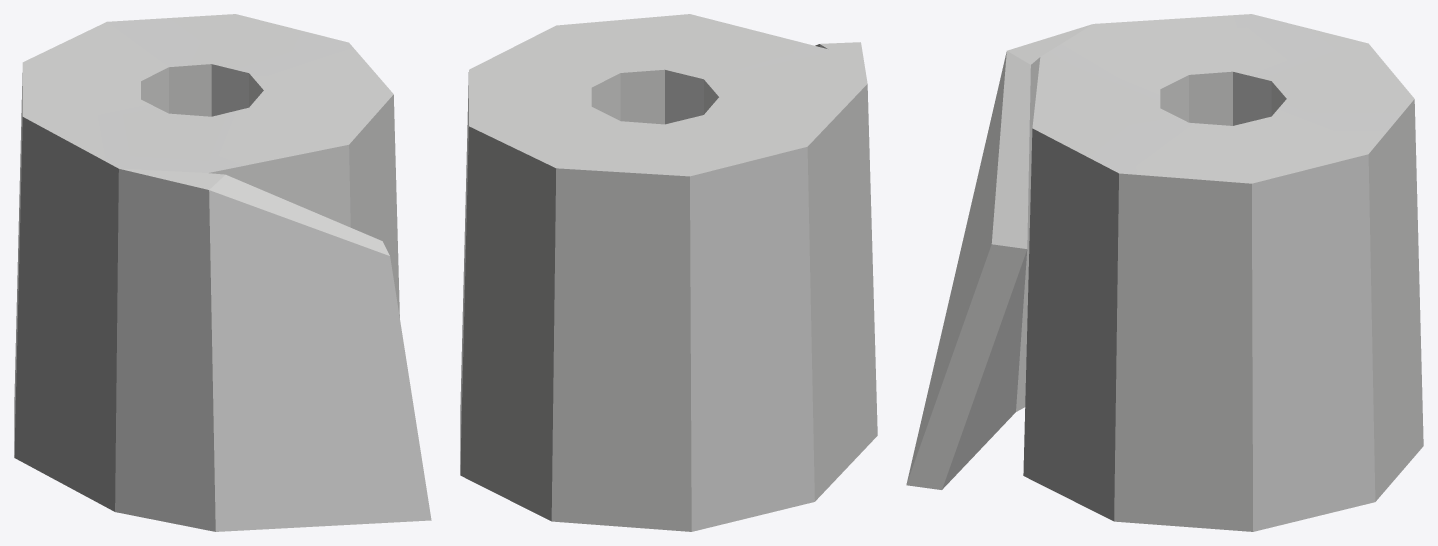
File: toilet-paper.glb
The picture shows the model from 3 angles, left to right: view 1: azimuth 30°, elevation 25°; view 2: azimuth 150°, elevation 25°; view 3: azimuth 270°, elevation 25°; orthographic projection. The views are drawn at different scales.
Visible parts, largest first — view 1: toilet-paper; view 2: toilet-paper; view 3: toilet-paper.
Part boxes in pixels (bbox=[...]): toilet-paper: bbox=[14, 14, 431, 531]; toilet-paper: bbox=[460, 14, 877, 531]; toilet-paper: bbox=[906, 14, 1423, 531].
Size of the model in its own units: 0.1591 by 0.1512 by 0.2025.
1 material, 1 textured.
